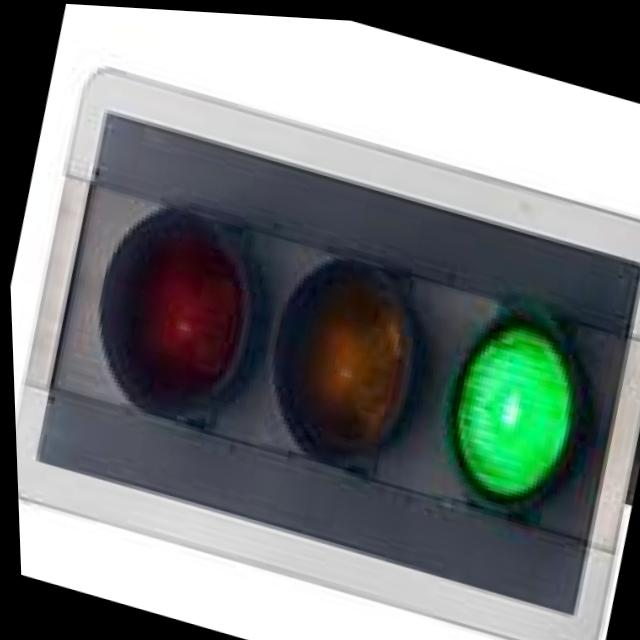green_light: (401, 267, 620, 553)
